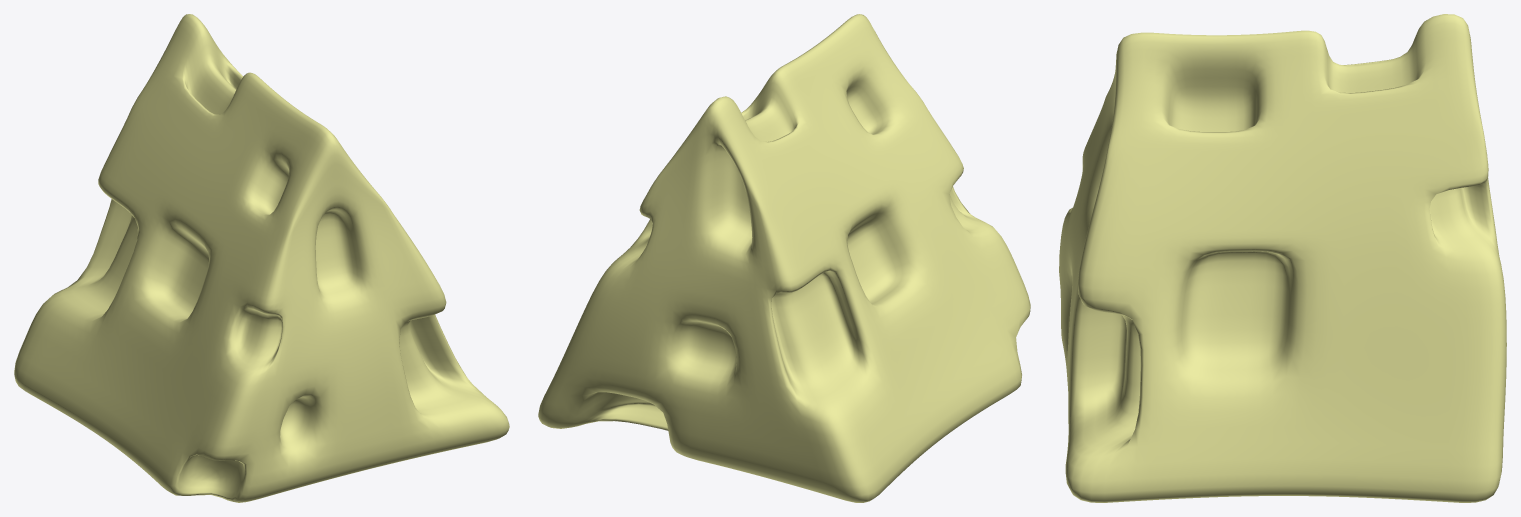
Rendered from cheese.fbx.
3 views of the same model, side by side, from view 1: azimuth 30°, elevation 25°; view 2: azimuth 150°, elevation 25°; view 3: azimuth 270°, elevation 25° (orthographic). The views are drawn at different scales.
Parts seen in each view (by area): view 1: pCube1; view 2: pCube1; view 3: pCube1.
Boxes of the visible parts, <box> form: pCube1: <box>14,14,509,502</box>; pCube1: <box>538,14,1030,502</box>; pCube1: <box>1059,14,1506,502</box>.
Bounding box in the file's own units: 1.84 × 1.89 × 1.9.
